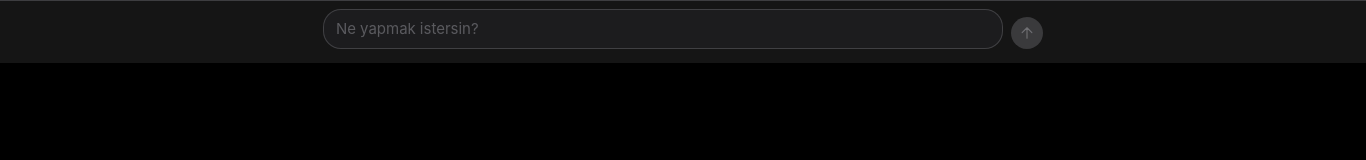
Scenario: Composer › composer shows routed project chip
In the text box named "Mesaj": [663, 29] box [336,17,990,41], type "alfa için plan yaz"
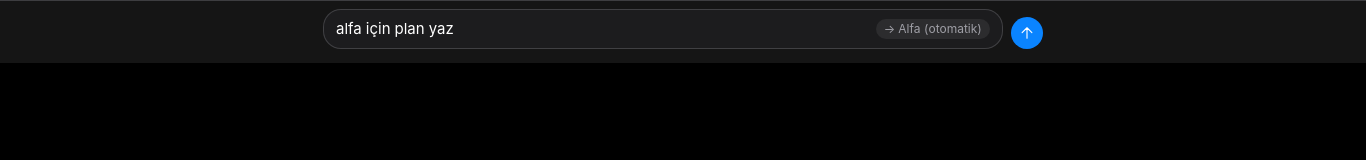
Check: the button "→ Alfa (otomatik)" is shown, box [876,19,990,39]
